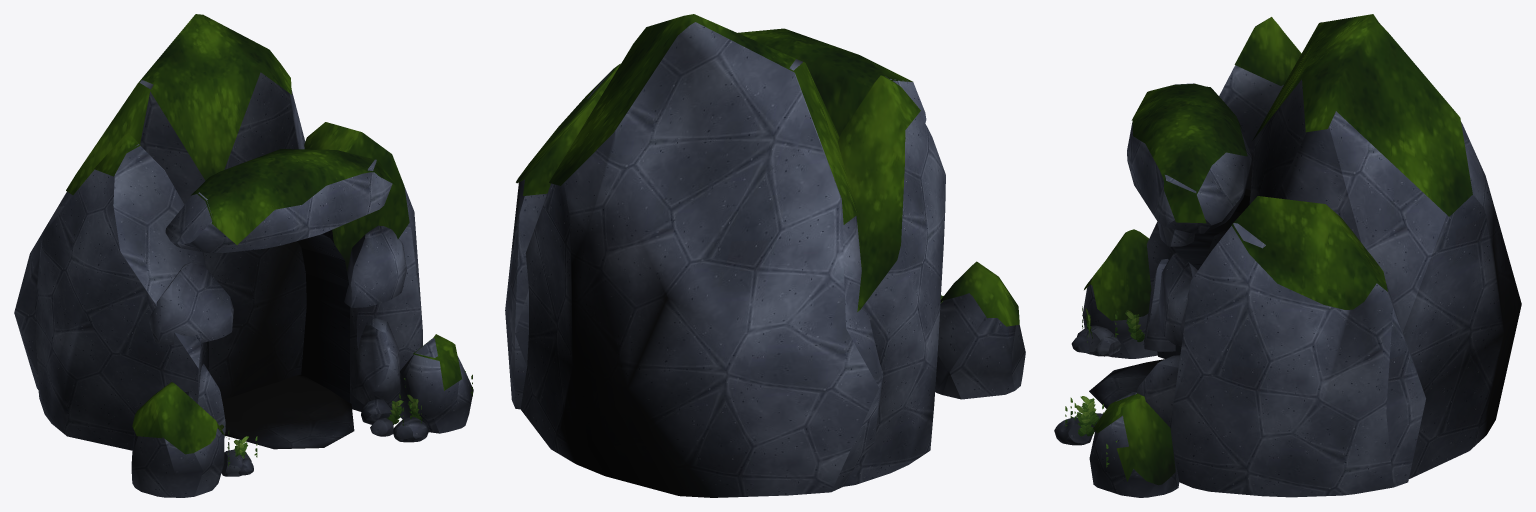
The model's file is cave_mouth.glb.
3 views of the same model, side by side, from view 1: azimuth 30°, elevation 25°; view 2: azimuth 150°, elevation 25°; view 3: azimuth 270°, elevation 25° (orthographic). The views are drawn at different scales.
Parts seen in each view (by area): view 1: cave_mouth; view 2: cave_mouth; view 3: cave_mouth.
Part boxes in pixels (x1,y1,x2,y2): cave_mouth: (14,14,473,497); cave_mouth: (505,14,1025,497); cave_mouth: (1054,14,1521,497).
Bounding box in the file's own units: 3.14 × 3.13 × 3.36.
4 materials, 3 textured.
